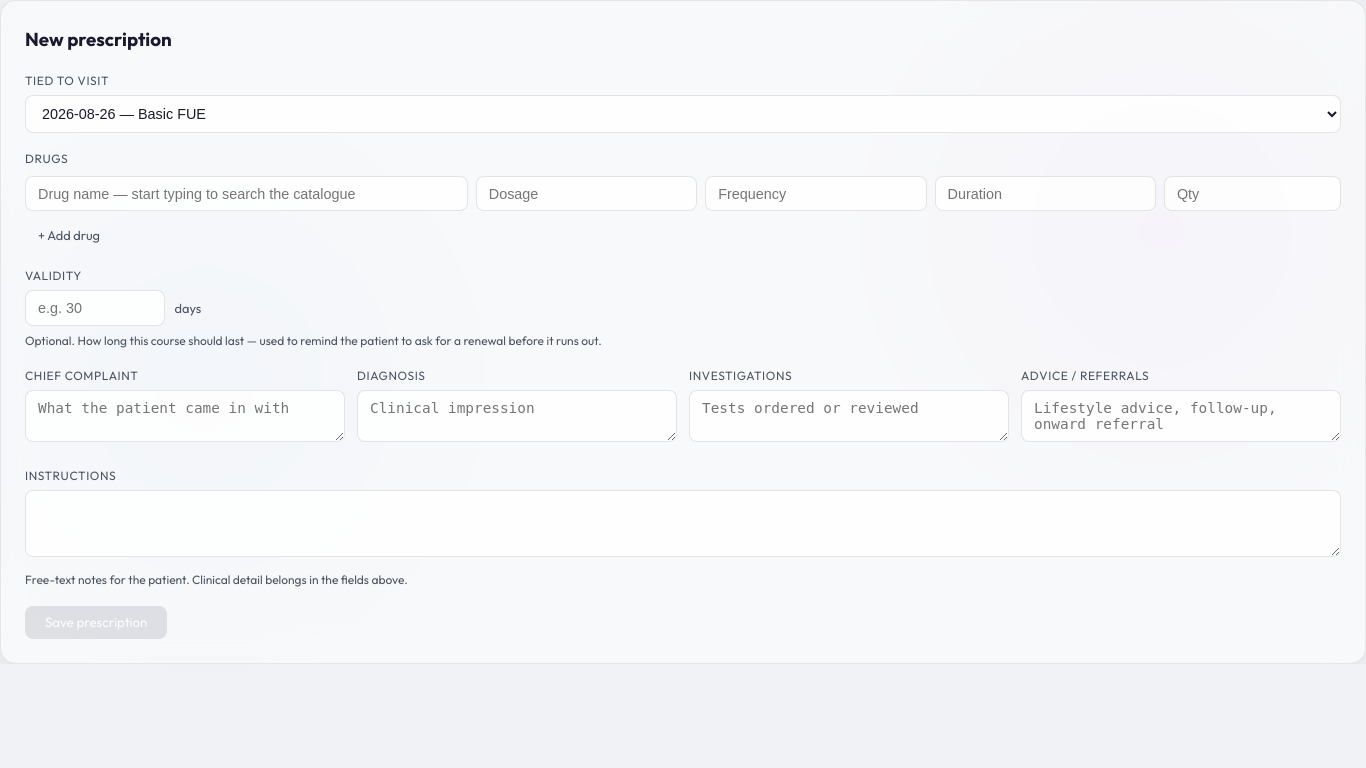
Scenario: PrescribeTab — drug typeahead › reads the PAGINATED envelope the route returns for ?limit=
Type "mino" into the field with placeholder "Drug name — start typing to search the catalogue" at (246, 194), box left=25, top=176, right=468, bottom=211
Wait 300 ms
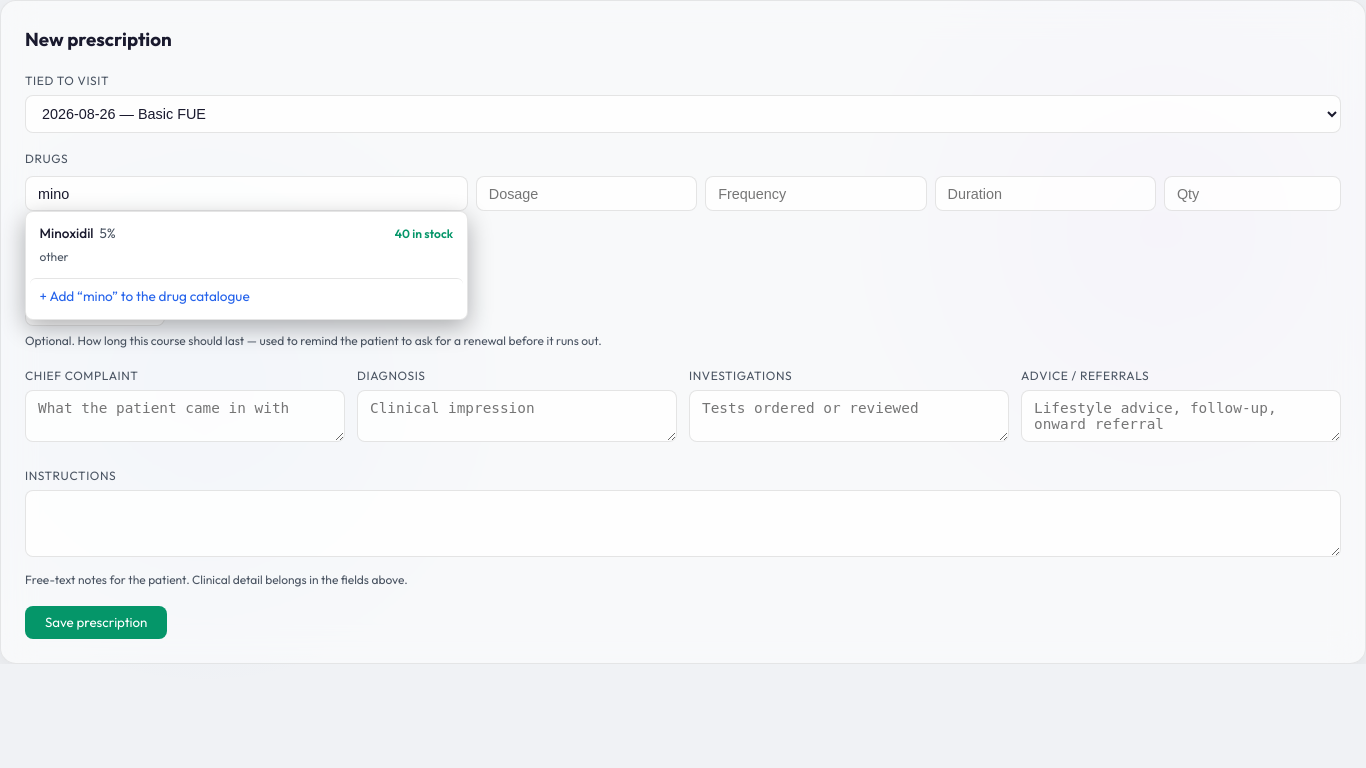
expect the text "Minoxidil" is shown: met, box left=40, top=224, right=94, bottom=242
